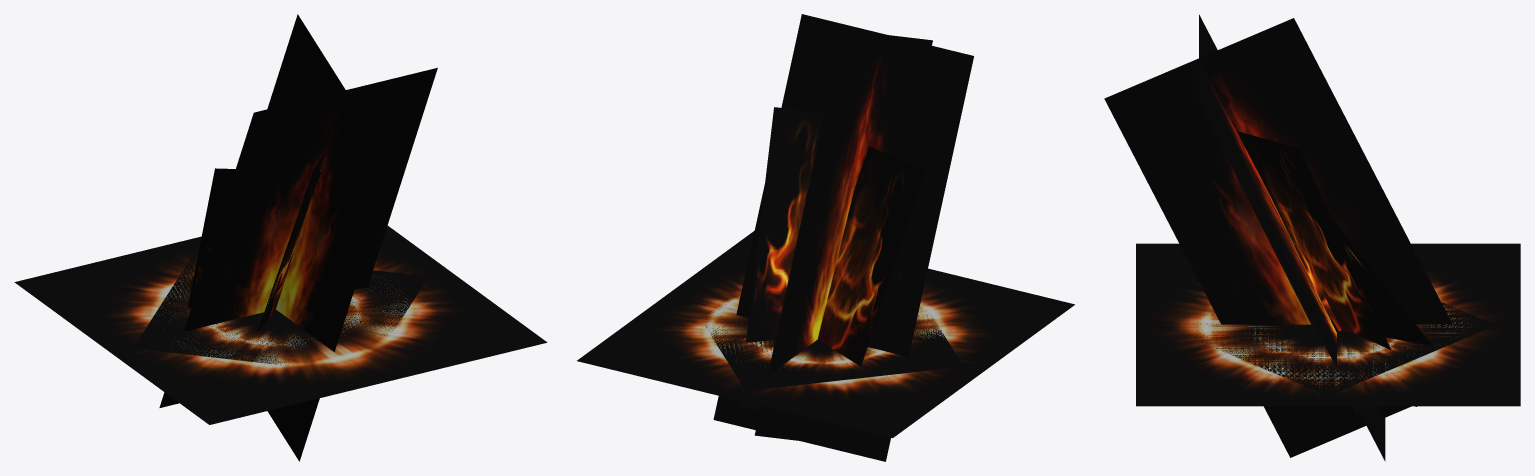
The model's file is fx_scene_gudinghuo02.FBX.
3 renders of one model, left to right at view 1: azimuth 30°, elevation 25°; view 2: azimuth 150°, elevation 25°; view 3: azimuth 270°, elevation 25°, orthographic. The views are drawn at different scales.
Visible parts, largest first — view 1: Plane006; view 2: Plane006; view 3: Plane006.
Part boxes in pixels (left/top/right/bottom): Plane006: left=14, top=14, right=547, bottom=461; Plane006: left=577, top=14, right=1074, bottom=461; Plane006: left=1104, top=14, right=1520, bottom=461.
Size of the model in its own units: 138 by 149 by 174.
